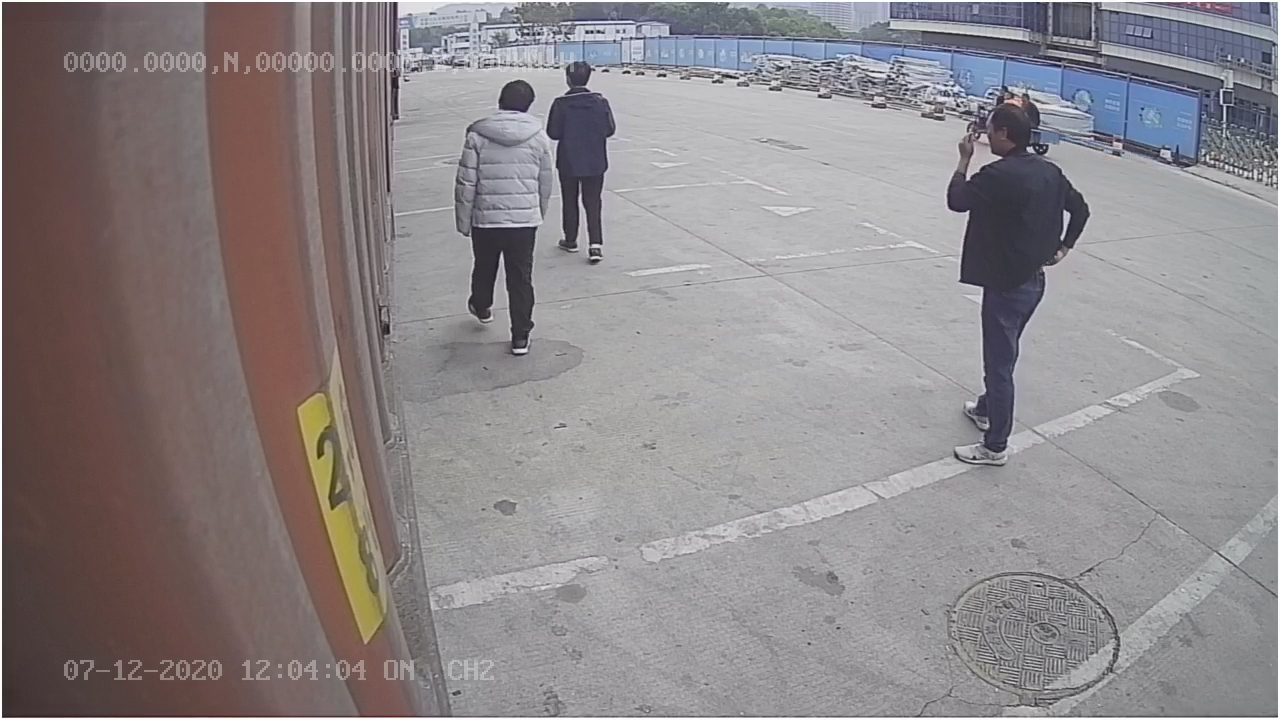person: (942, 102, 1092, 469), (452, 79, 556, 356)
